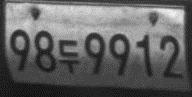1: (135, 33, 154, 78)
2: (158, 33, 184, 81)
8: (33, 30, 57, 74)
9: (107, 31, 131, 77), (83, 31, 106, 75), (9, 28, 31, 73)
두: (56, 38, 81, 75)
